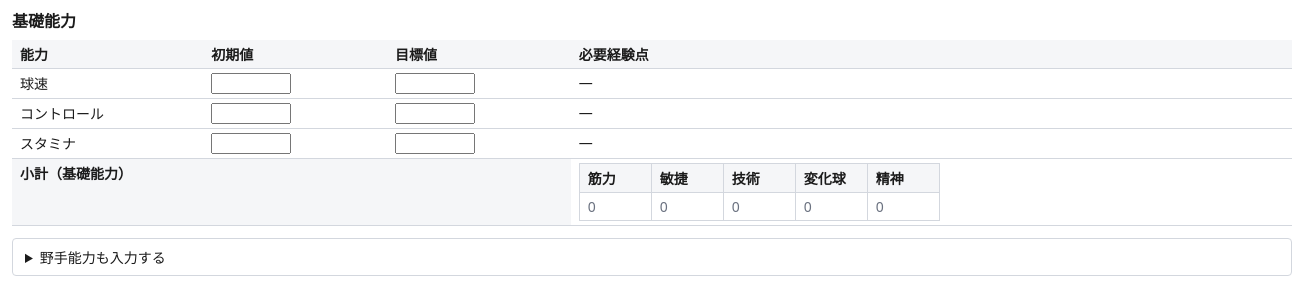
Scenario: BaseAbilityTab › UI-T2-06 / UI-T2-07: 欠落段階は ⚠ 表示になり 0 補完せず未完成になる
This screenshot has width=1292, height=293.
In the number field with test id "base-current-velocity": (251, 84) 211,73 -> 291,94, type "130"
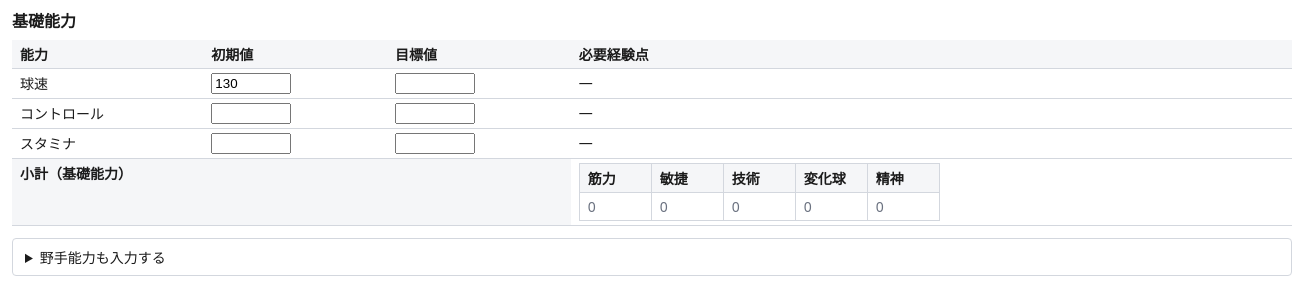
In the number field with test id "base-target-velocity": (435, 84) 395,73 -> 475,94, type "135"
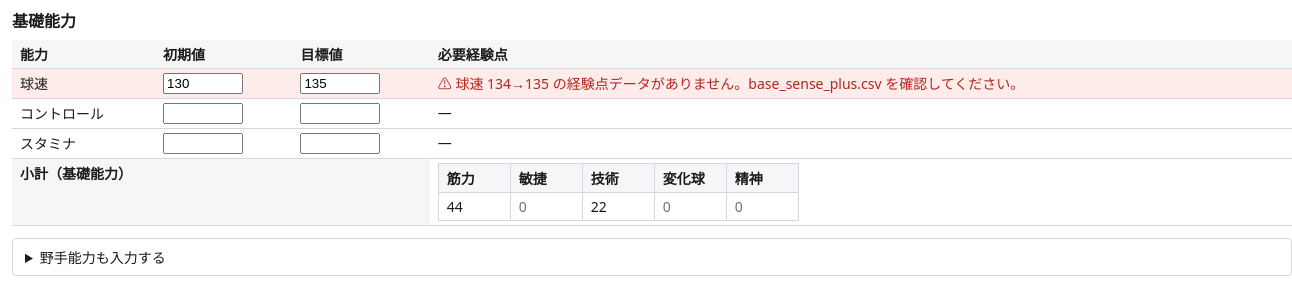
Check: the text with test id "base-exp-velocity" shows "⚠", box 438,74 -> 1024,93
Check: the text with test id "base-exp-velocity" shows "経験点データがありません", box 438,74 -> 1024,93
